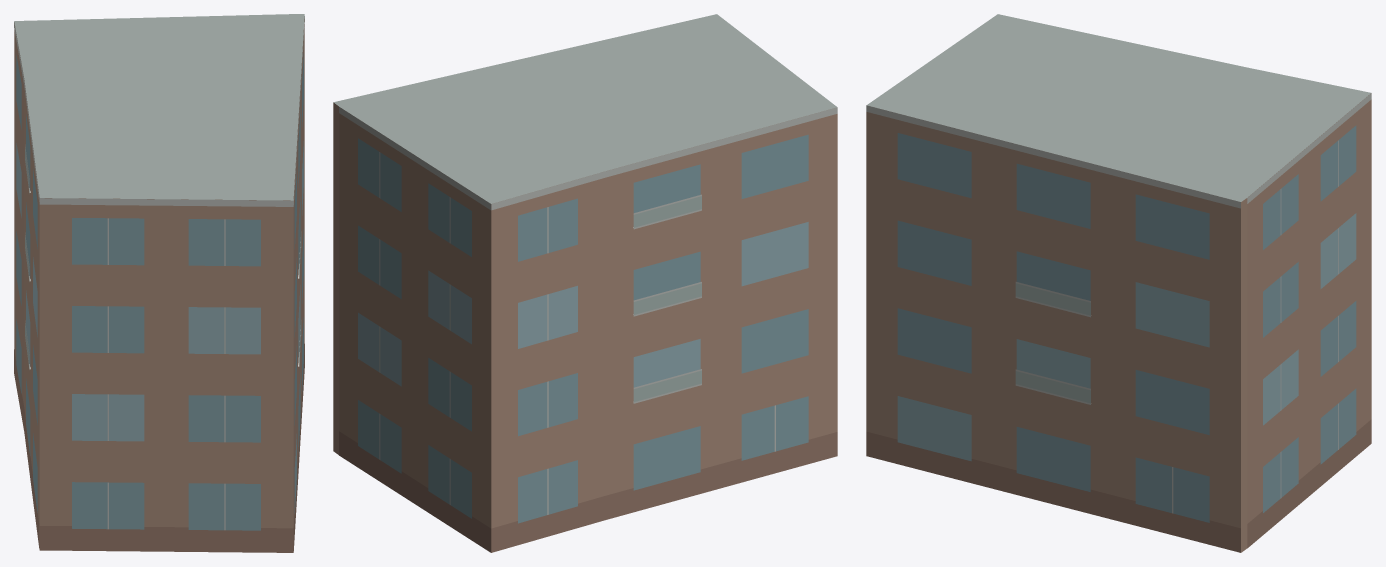
The model's file is survey-upis-32876847.glb.
3 renders of one model, left to right at view 1: azimuth 30°, elevation 25°; view 2: azimuth 150°, elevation 25°; view 3: azimuth 270°, elevation 25°, orthographic.
Parts seen in each view (by area): view 1: survey-upis-32876847.tmp; view 2: survey-upis-32876847.tmp; view 3: survey-upis-32876847.tmp.
Part boxes in pixels (bbox=[...]): survey-upis-32876847.tmp: bbox=[14, 14, 304, 552]; survey-upis-32876847.tmp: bbox=[333, 14, 837, 552]; survey-upis-32876847.tmp: bbox=[866, 14, 1371, 552].
Size of the model in its own units: 15.19 by 13.2 by 17.24.
